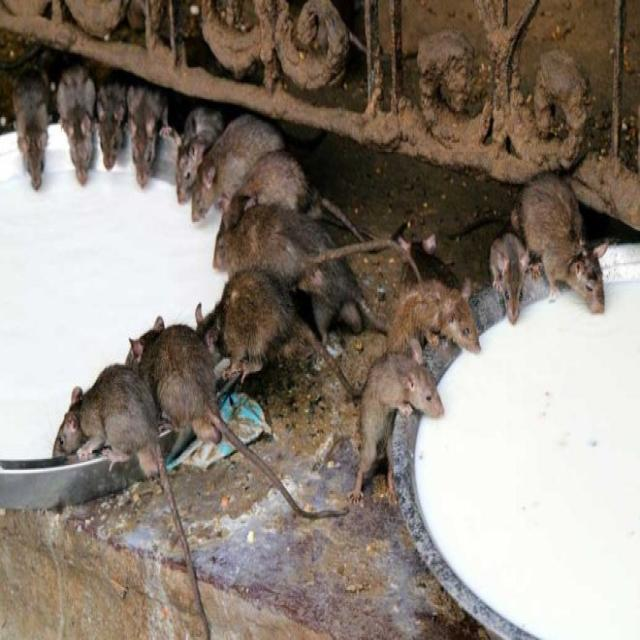rat: (512, 165, 621, 323), (350, 345, 447, 502), (190, 96, 306, 225), (210, 201, 355, 298), (51, 364, 144, 484), (127, 318, 218, 435), (195, 270, 294, 372), (386, 278, 484, 364), (12, 56, 55, 200), (177, 84, 223, 217), (54, 63, 99, 186), (126, 80, 172, 193), (487, 226, 533, 332), (96, 73, 124, 177)
